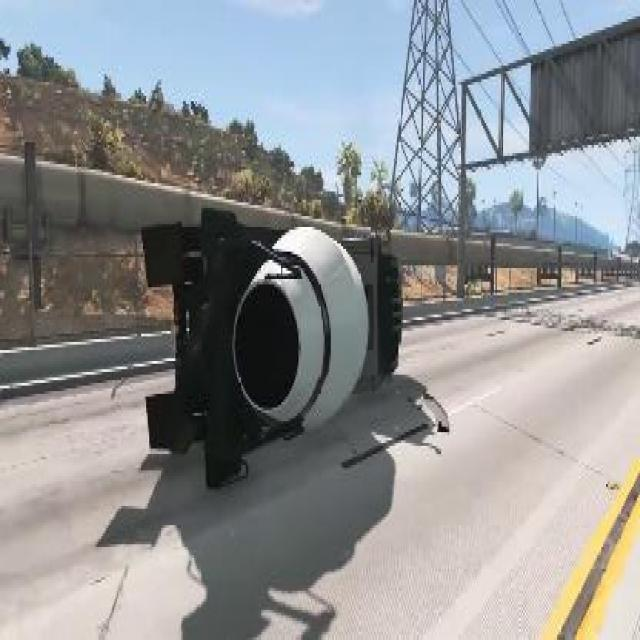accident: (130, 197, 408, 487)
